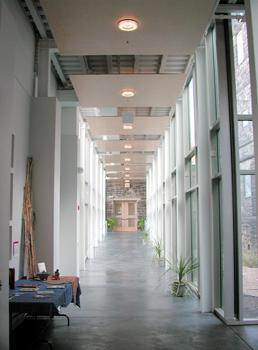Matera: (165, 257, 196, 300), (153, 242, 165, 261)
